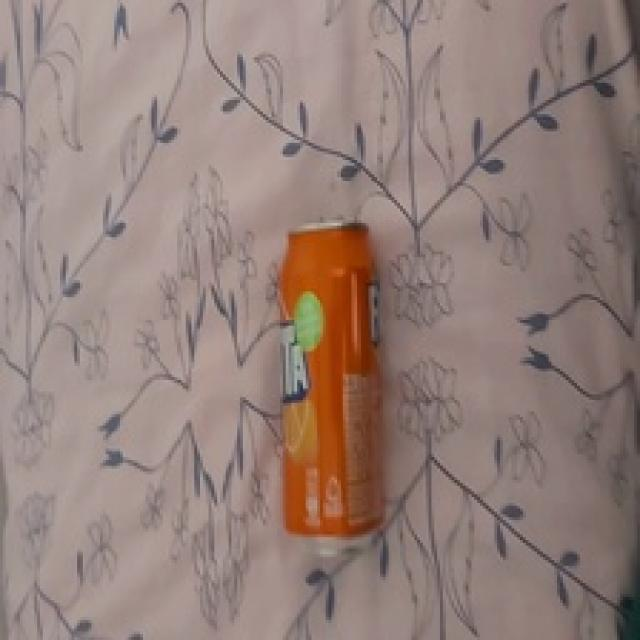recyclable: (274, 214, 390, 556)
